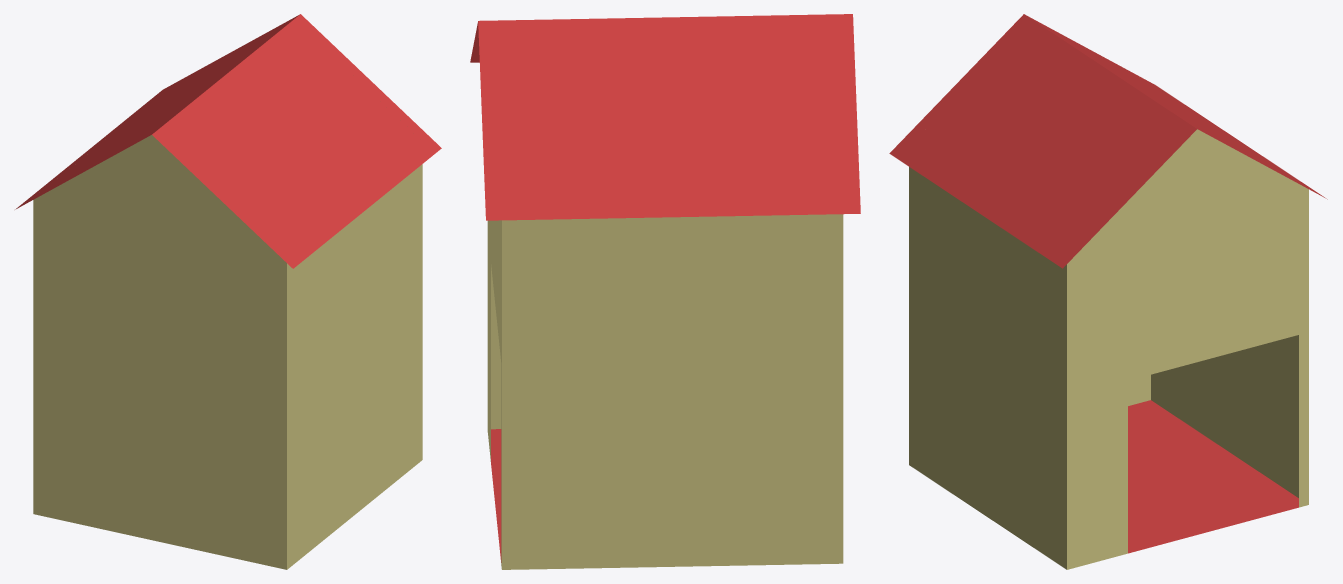
3 renders of one model, left to right at view 1: azimuth 30°, elevation 25°; view 2: azimuth 150°, elevation 25°; view 3: azimuth 270°, elevation 25°, orthographic. The views are drawn at different scales.
Size of the model in its own units: 15.42 by 15.34 by 15.91.
